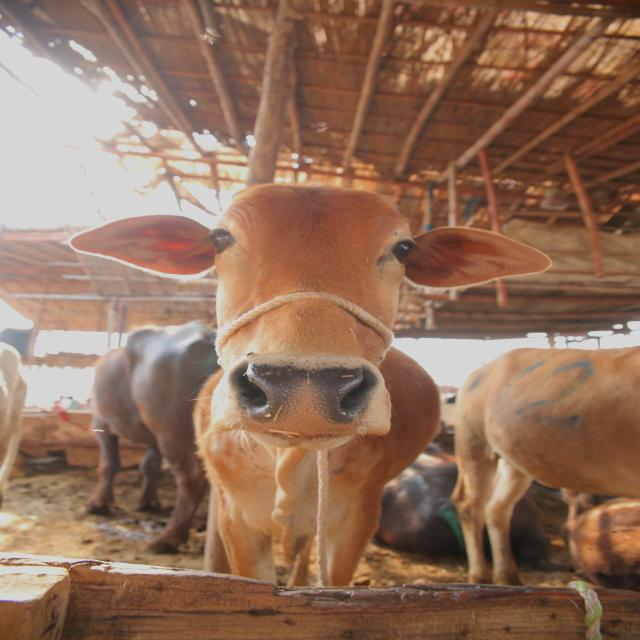muzzles: (222, 354, 384, 444)
